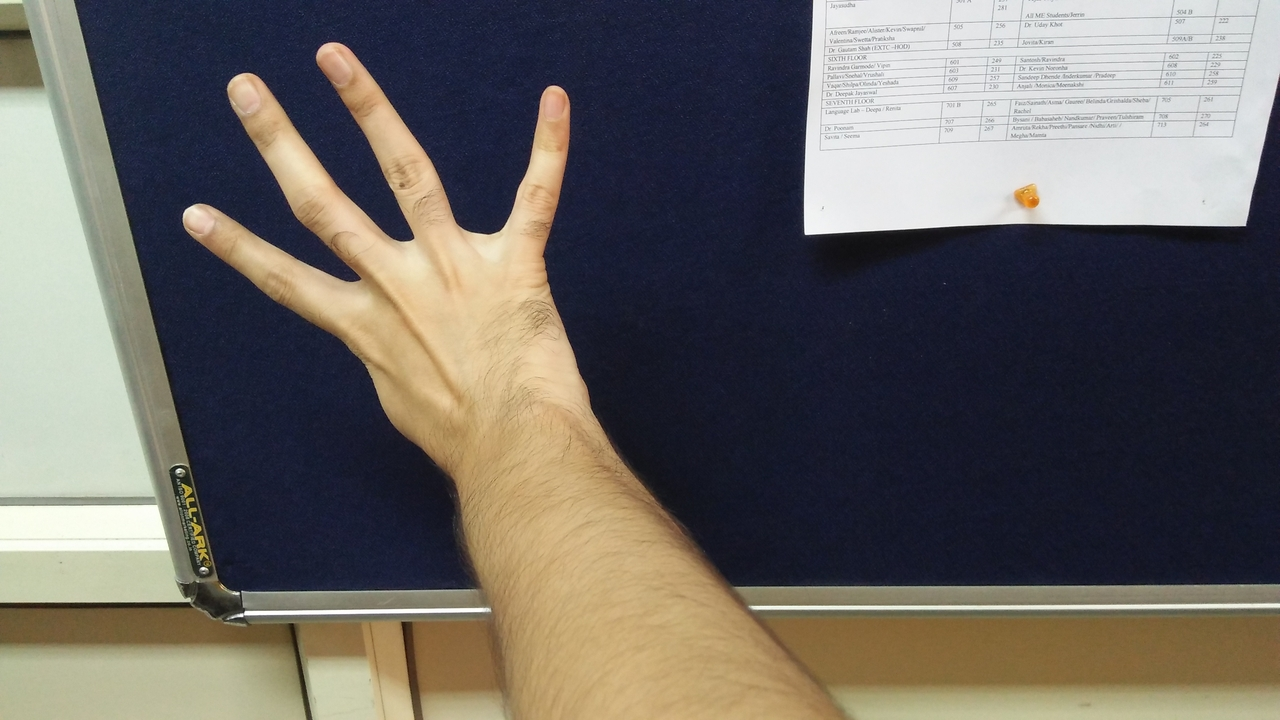fingertip: (164, 190, 234, 252), (214, 62, 274, 118), (302, 34, 366, 82), (522, 74, 580, 118)
